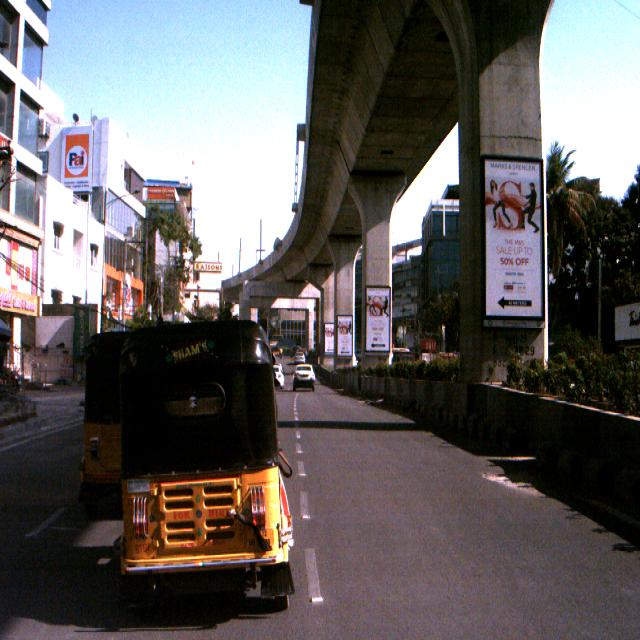auto ahead at: (110, 316, 292, 598)
